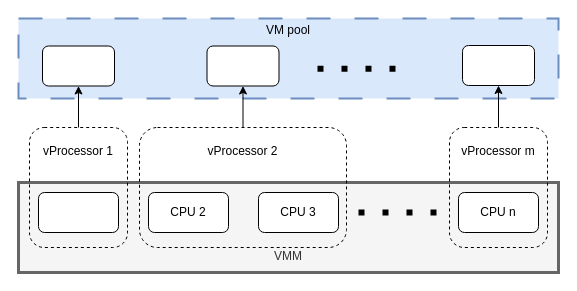
Some shapes in this 577 by 291 pixel diagram are drawn without their labels. Each missing label, with the centre of its shape:
"CPU 1" goes at (x=78, y=212).
"VM 1" goes at (x=78, y=65).
"VM 2" goes at (x=242, y=65).
"VM m" goes at (x=498, y=65).
